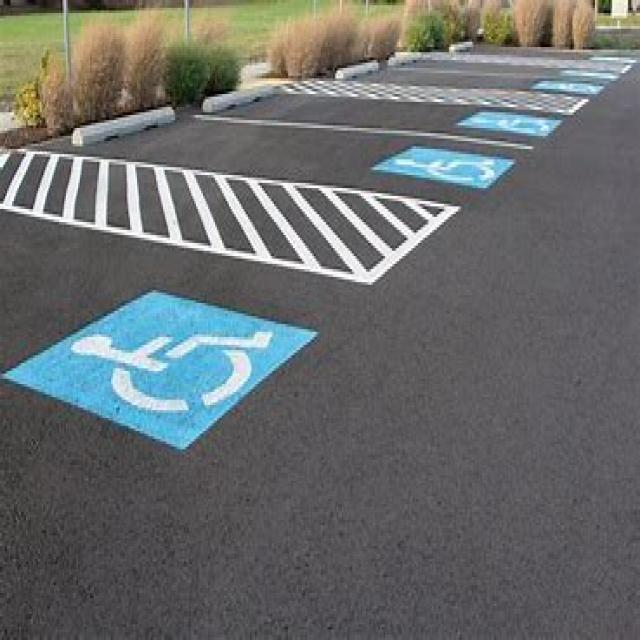symbol_of_access: (70, 312, 276, 422), (392, 144, 496, 188)
